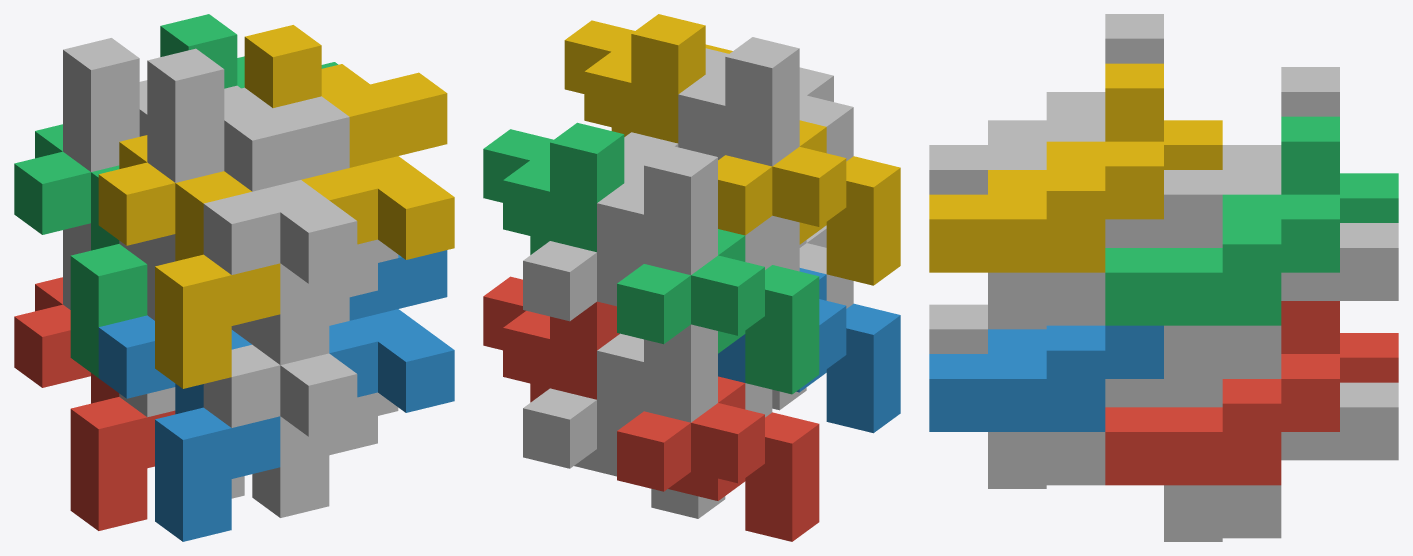
Rendered from tiling.obj.
3 views of the same model, side by side, from view 1: azimuth 30°, elevation 25°; view 2: azimuth 150°, elevation 25°; view 3: azimuth 270°, elevation 25° (orthographic). The views are drawn at different scales.
Parts seen in each view (by area): view 1: copy_2_domain_4, copy_2_domain_8, copy_1_domain_4, copy_1_domain_2, copy_1_domain_1, copy_1_domain_3, copy_2_domain_6, copy_2_domain_2, copy_2_domain_3, copy_1_domain_8, copy_1_domain_6, copy_2_domain_7 (+1 smaller); view 2: copy_1_domain_1, copy_1_domain_3, copy_1_domain_4, copy_2_domain_4, copy_2_domain_8, copy_2_domain_7, copy_2_domain_3, copy_1_domain_2, copy_2_domain_1, copy_2_domain_5, copy_1_domain_5, copy_1_domain_7 (+2 smaller); view 3: copy_2_domain_8, copy_2_domain_7, copy_2_domain_5, copy_2_domain_6, copy_1_domain_5, copy_1_domain_8, copy_2_domain_4, copy_1_domain_6, copy_1_domain_7, copy_2_domain_3, copy_1_domain_1, copy_1_domain_3 (+2 smaller).
Part boxes in pixels (x1,y1,x2,y2): copy_2_domain_4: [147, 48, 357, 283]; copy_2_domain_8: [244, 25, 454, 259]; copy_1_domain_4: [98, 135, 280, 388]; copy_1_domain_2: [98, 315, 280, 541]; copy_1_domain_1: [14, 277, 175, 530]; copy_1_domain_3: [14, 124, 147, 377]; copy_2_domain_6: [329, 250, 454, 412]; copy_2_domain_2: [147, 234, 357, 436]; copy_2_domain_3: [63, 38, 240, 263]; copy_1_domain_8: [252, 239, 398, 365]; copy_1_domain_6: [252, 392, 398, 517]; copy_2_domain_7: [160, 14, 338, 88]; copy_1_domain_1: [617, 376, 819, 541]; copy_1_domain_3: [617, 229, 819, 394]; copy_1_domain_4: [718, 120, 900, 285]; copy_2_domain_4: [678, 37, 853, 166]; copy_2_domain_8: [564, 14, 732, 143]; copy_2_domain_7: [483, 122, 624, 254]; copy_2_domain_3: [597, 145, 772, 274]; copy_1_domain_2: [718, 268, 900, 433]; copy_2_domain_1: [597, 324, 772, 422]; copy_2_domain_5: [483, 276, 619, 402]; copy_1_domain_5: [523, 388, 725, 518]; copy_1_domain_7: [523, 241, 643, 321]; copy_2_domain_8: [929, 63, 1163, 272]; copy_2_domain_7: [1105, 116, 1339, 325]; copy_2_domain_5: [1105, 301, 1339, 485]; copy_2_domain_6: [929, 325, 1163, 431]; copy_1_domain_5: [1164, 382, 1398, 541]; copy_1_domain_8: [988, 170, 1222, 329]; copy_2_domain_4: [929, 14, 1163, 194]; copy_1_domain_6: [988, 354, 1222, 488]; copy_1_domain_7: [1164, 223, 1398, 378]; copy_2_domain_3: [1222, 67, 1339, 194]; copy_1_domain_1: [1340, 333, 1398, 382]; copy_1_domain_3: [1340, 173, 1398, 222].
Size of the model in its own units: 6 by 9 by 8.
